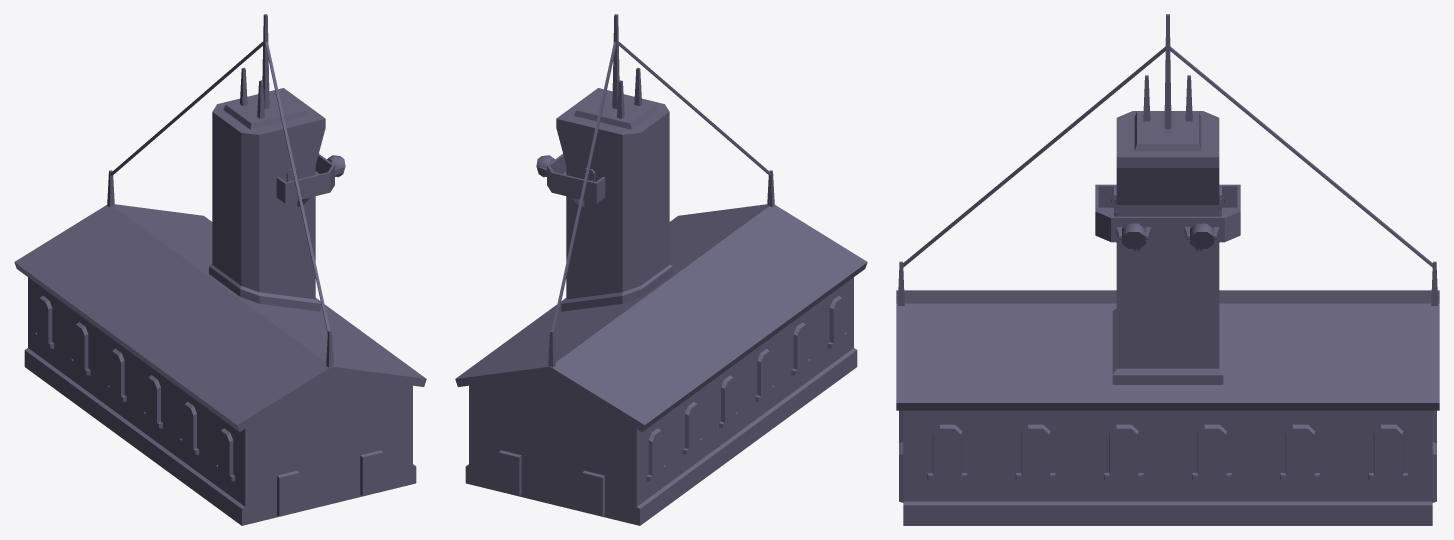
File: Props_R_Headquarters.fbx
The picture shows the model from 3 angles, left to right: view 1: azimuth 30°, elevation 25°; view 2: azimuth 150°, elevation 25°; view 3: azimuth 270°, elevation 25°; orthographic projection. The views are drawn at different scales.
Parts seen in each view (by area): view 1: Props_R_Headquarters; view 2: Props_R_Headquarters; view 3: Props_R_Headquarters.
Part boxes in pixels (<box>): Props_R_Headquarters: <box>14,14,426,525</box>; Props_R_Headquarters: <box>455,14,867,525</box>; Props_R_Headquarters: <box>896,14,1439,525</box>.
Size of the model in its own units: 30.73 by 57.86 by 58.57.
